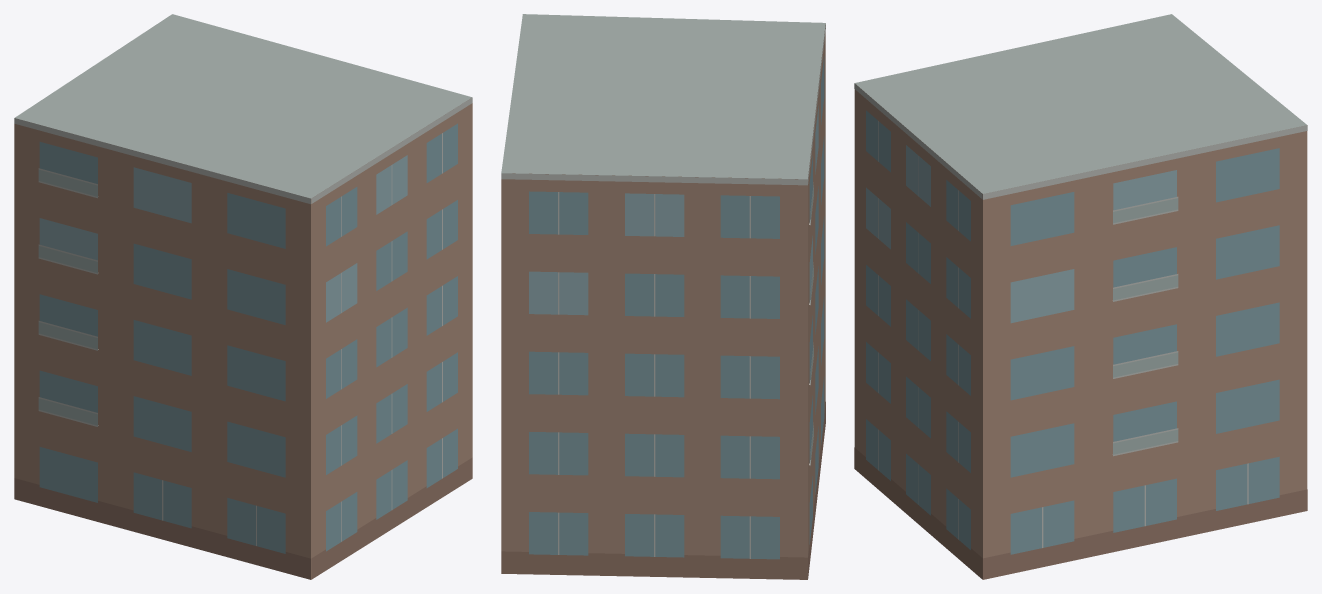
The model's file is survey-upis-32839753.glb.
3 views of the same model, side by side, from view 1: azimuth 30°, elevation 25°; view 2: azimuth 150°, elevation 25°; view 3: azimuth 270°, elevation 25° (orthographic). The views are drawn at different scales.
Parts seen in each view (by area): view 1: survey-upis-32839753.tmp; view 2: survey-upis-32839753.tmp; view 3: survey-upis-32839753.tmp.
Part boxes in pixels (bbox=[...]): survey-upis-32839753.tmp: bbox=[14, 14, 472, 579]; survey-upis-32839753.tmp: bbox=[501, 14, 825, 579]; survey-upis-32839753.tmp: bbox=[854, 14, 1307, 579].
Size of the model in its own units: 16.23 by 16.2 by 17.24.
